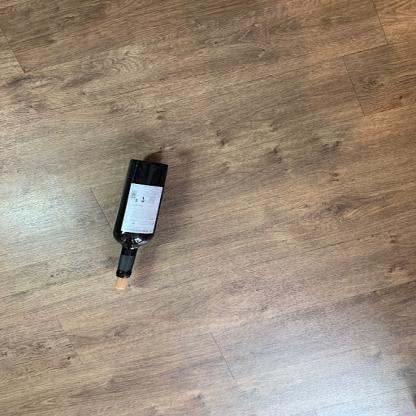trash: (106, 158, 168, 279)
